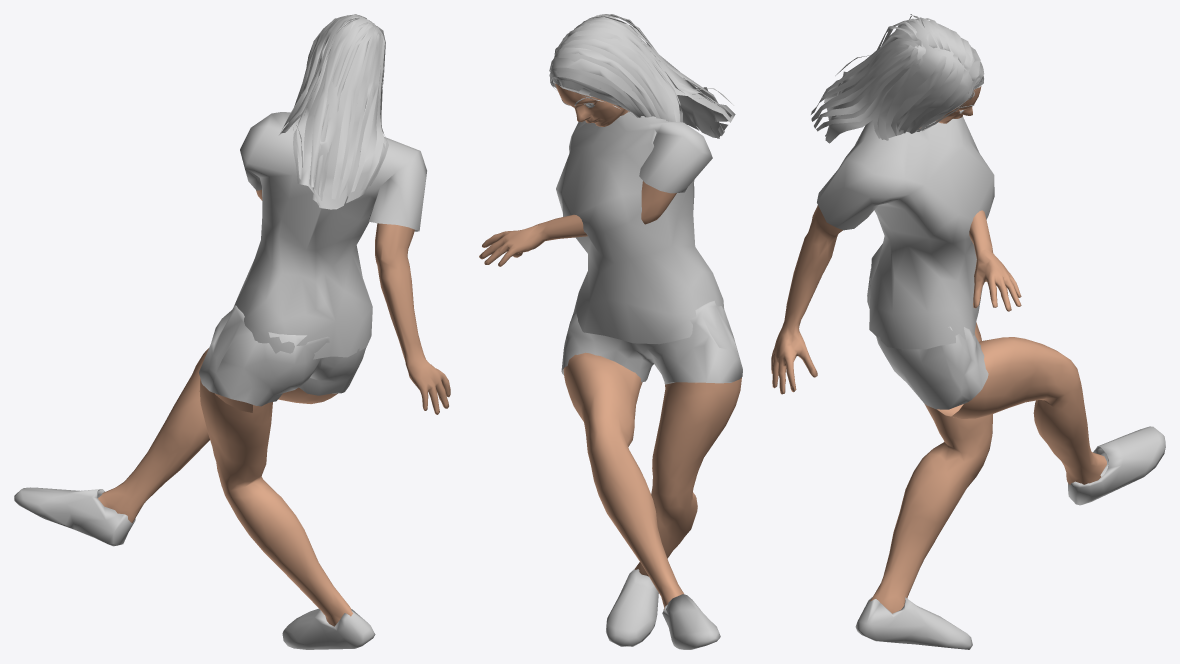
Rendered from player2att_000030.obj.
The picture shows the model from 3 angles, left to right: view 1: azimuth 30°, elevation 25°; view 2: azimuth 150°, elevation 25°; view 3: azimuth 270°, elevation 25°; orthographic projection. The views are drawn at different scales.
Visible parts, largest first — view 1: player2:tshirt02, player2:Body, player2:fhair01, player2:short01, player2:shoes02; view 2: player2:tshirt02, player2:Body, player2:fhair01, player2:short01, player2:shoes02; view 3: player2:Body, player2:tshirt02, player2:fhair01, player2:shoes02, player2:short01.
Part boxes in pixels (x1=…): player2:tshirt02: x1=234, y1=112, x2=426, y2=359; player2:Body: x1=98, y1=189, x2=450, y2=626; player2:fhair01: x1=279, y1=14, x2=388, y2=209; player2:short01: x1=199, y1=305, x2=365, y2=406; player2:shoes02: x1=14, y1=487, x2=375, y2=649; player2:tshirt02: x1=556, y1=111, x2=723, y2=344; player2:Body: x1=479, y1=83, x2=741, y2=609; player2:fhair01: x1=549, y1=14, x2=735, y2=138; player2:short01: x1=561, y1=301, x2=742, y2=384; player2:shoes02: x1=606, y1=568, x2=720, y2=649; player2:Body: x1=771, y1=86, x2=1106, y2=613; player2:tshirt02: x1=817, y1=116, x2=994, y2=349; player2:fhair01: x1=811, y1=14, x2=984, y2=143; player2:shoes02: x1=855, y1=426, x2=1165, y2=649; player2:short01: x1=867, y1=268, x2=988, y2=409.
Size of the model in its own units: 8.3 by 15.64 by 8.59.
